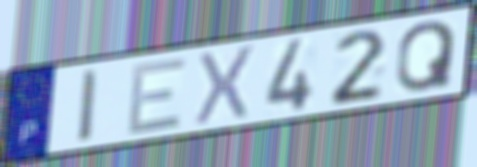2: (325, 28, 390, 109)
4: (263, 36, 317, 115)
E: (124, 53, 190, 138)
I: (77, 66, 101, 146)
Q: (393, 19, 459, 95)
X: (192, 41, 259, 128)
